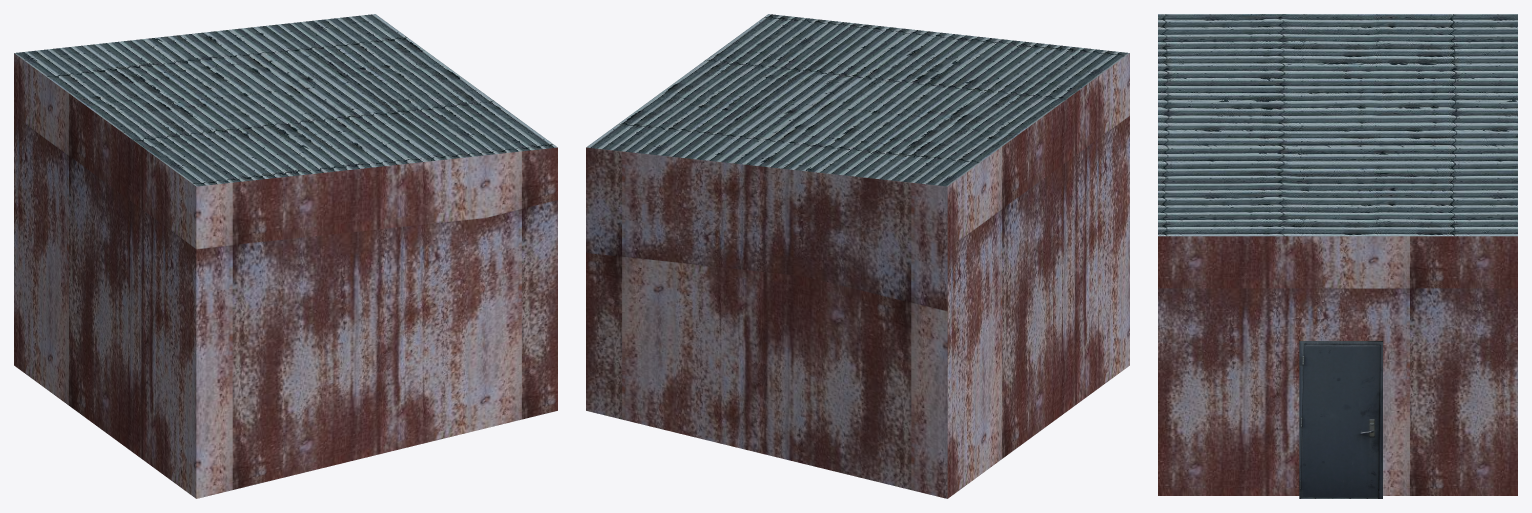
Rendered from HomeLv1.fbx.
3 views of the same model, side by side, from view 1: azimuth 30°, elevation 25°; view 2: azimuth 150°, elevation 25°; view 3: azimuth 270°, elevation 25° (orthographic).
Parts seen in each view (by area): view 1: polySurface5; view 2: polySurface5; view 3: polySurface5.
Part boxes in pixels (x1,y1,x2,y2): polySurface5: (14,14,557,498); polySurface5: (586,14,1129,498); polySurface5: (1158,14,1517,498).
Size of the model in its own units: 20.51 by 16.97 by 17.84.
3 materials, 3 textured.
